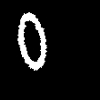chain: (18, 12, 46, 69)
